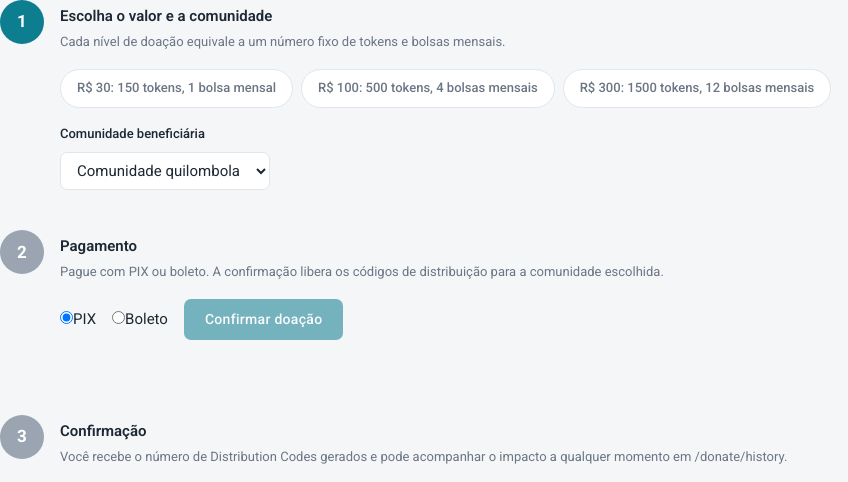
DonationFlow › confirms a donation after picking a tier and paying
Click the button "R$ 100: 500 tokens, 4 bolsas mensais": point(428, 88) x1=301 y1=69 x2=555 y2=108
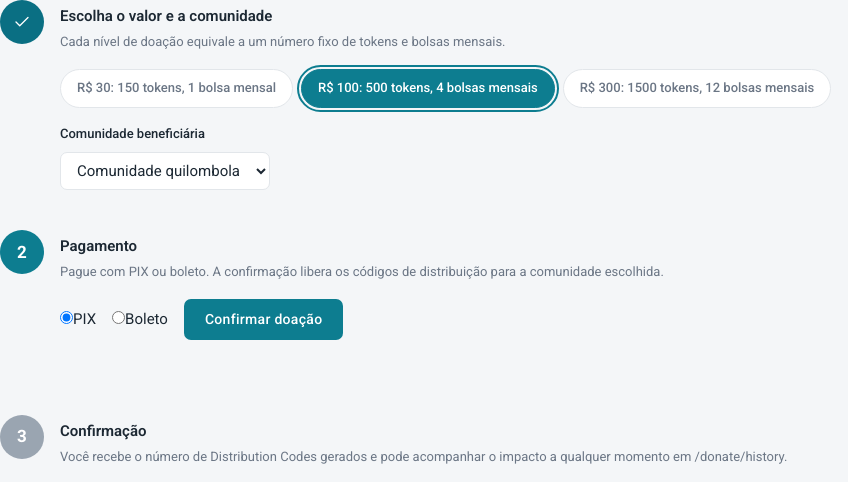
Click the button "Confirmar doação": point(264, 319) x1=184 y1=299 x2=343 y2=340
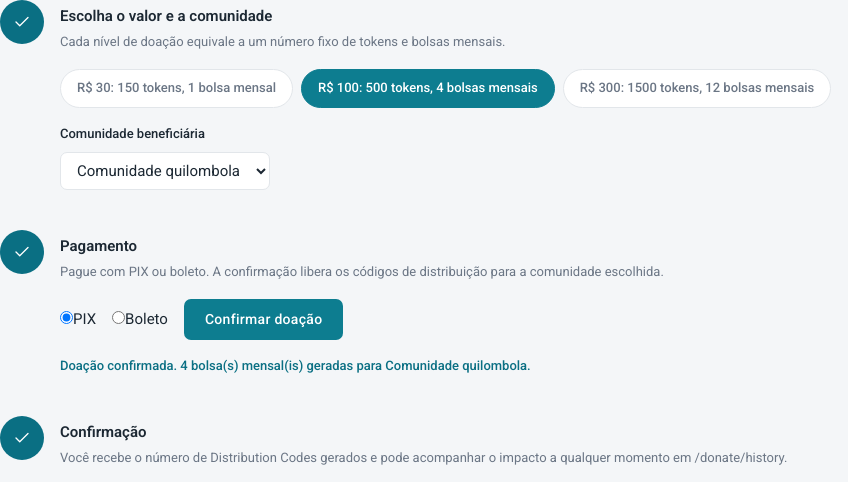
Now the text "Doação confirmada. 4 bolsa(s) mensal(is) geradas para Comunidade quilombola." is shown, box x1=60 y1=358 x2=531 y2=373
